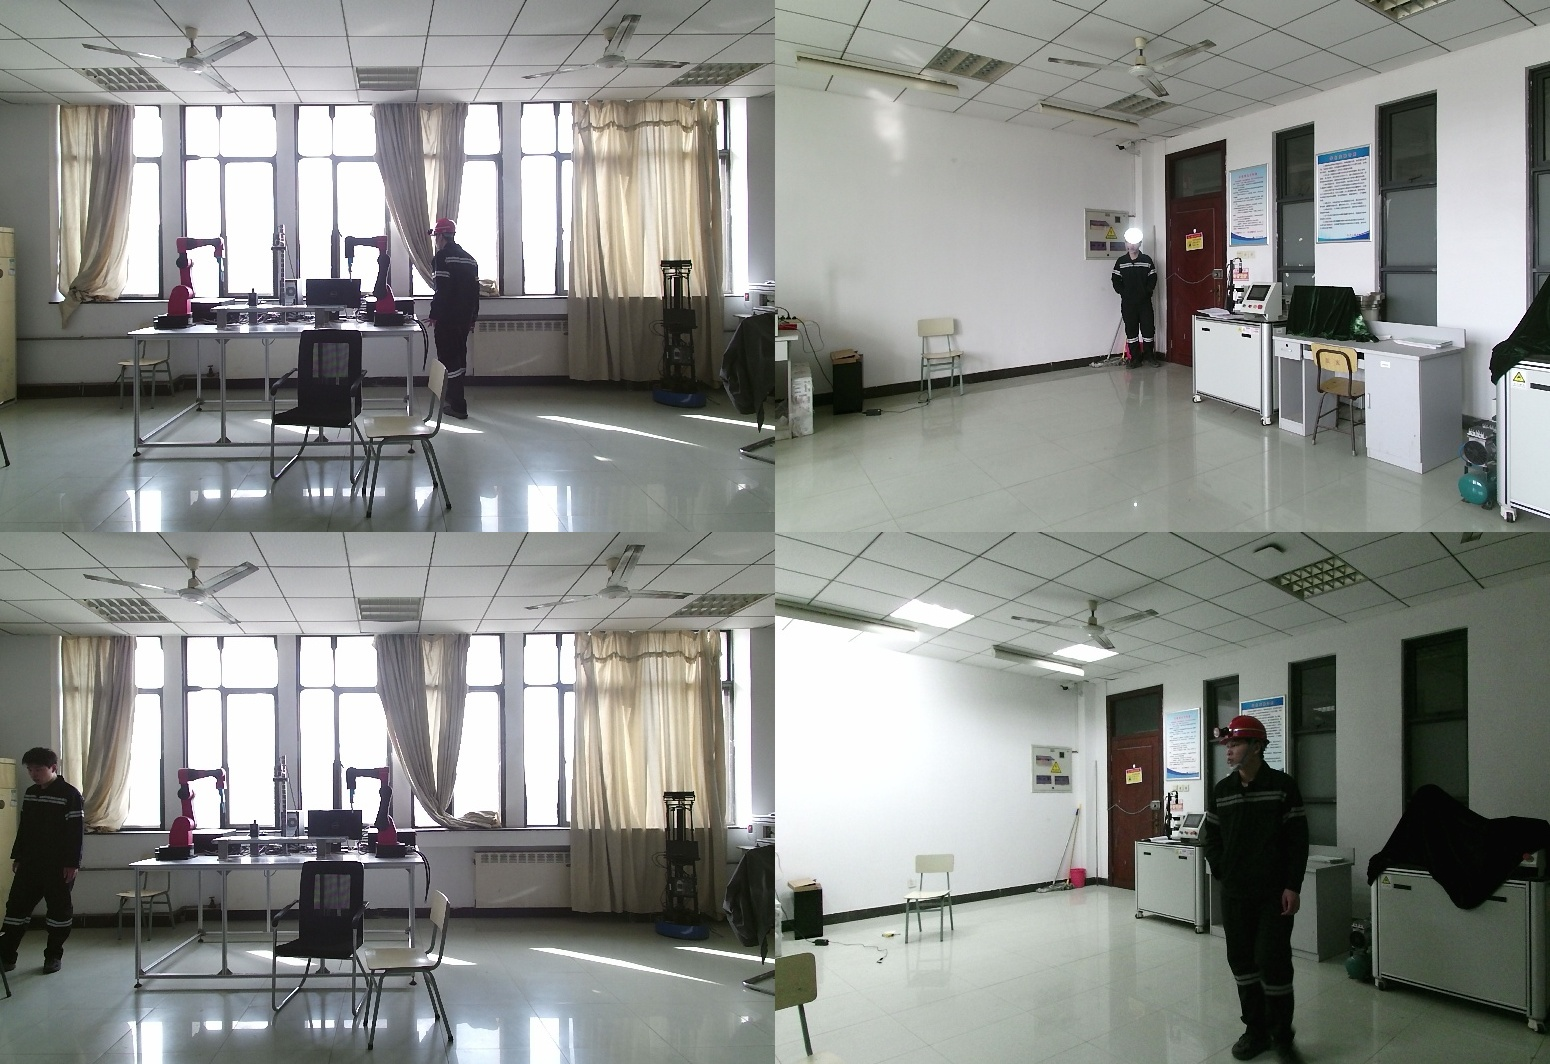person: (1198, 714, 1332, 1064), (1, 747, 91, 973), (422, 220, 483, 424), (1113, 232, 1162, 369)
